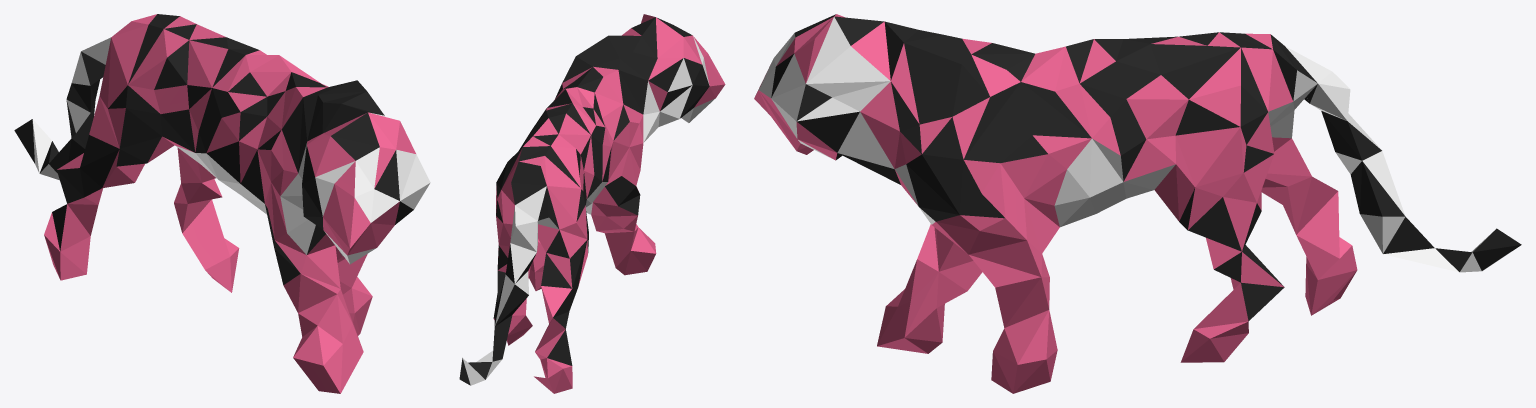
File: animal_016.fbx
3 renders of one model, left to right at view 1: azimuth 30°, elevation 25°; view 2: azimuth 150°, elevation 25°; view 3: azimuth 270°, elevation 25°, orthographic. The views are drawn at different scales.
Visible parts, largest first — view 1: animal.016; view 2: animal.016; view 3: animal.016.
Boxes of the visible parts, x1,y1,x2,y2 form: animal.016: [14, 14, 430, 393]; animal.016: [459, 14, 725, 393]; animal.016: [754, 14, 1521, 393].
Size of the model in its own units: 51.83 by 78.15 by 160.
1 material, 1 textured.
